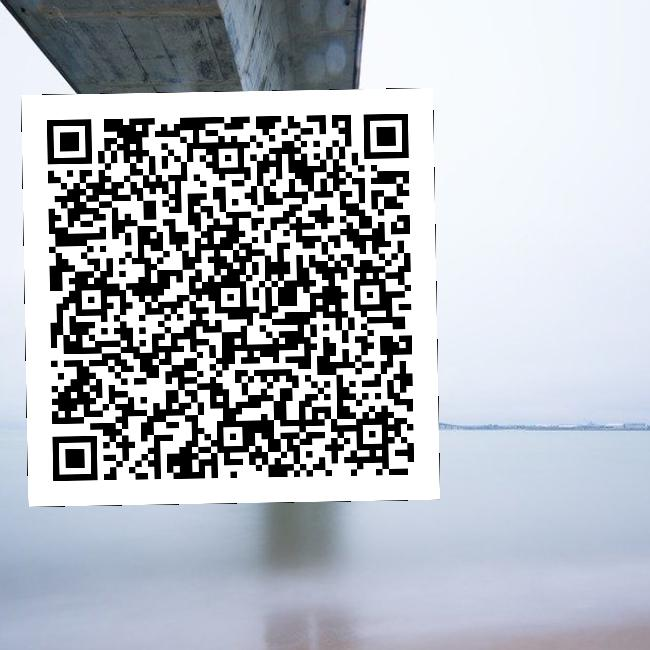qr_code: (21, 88, 439, 506)
